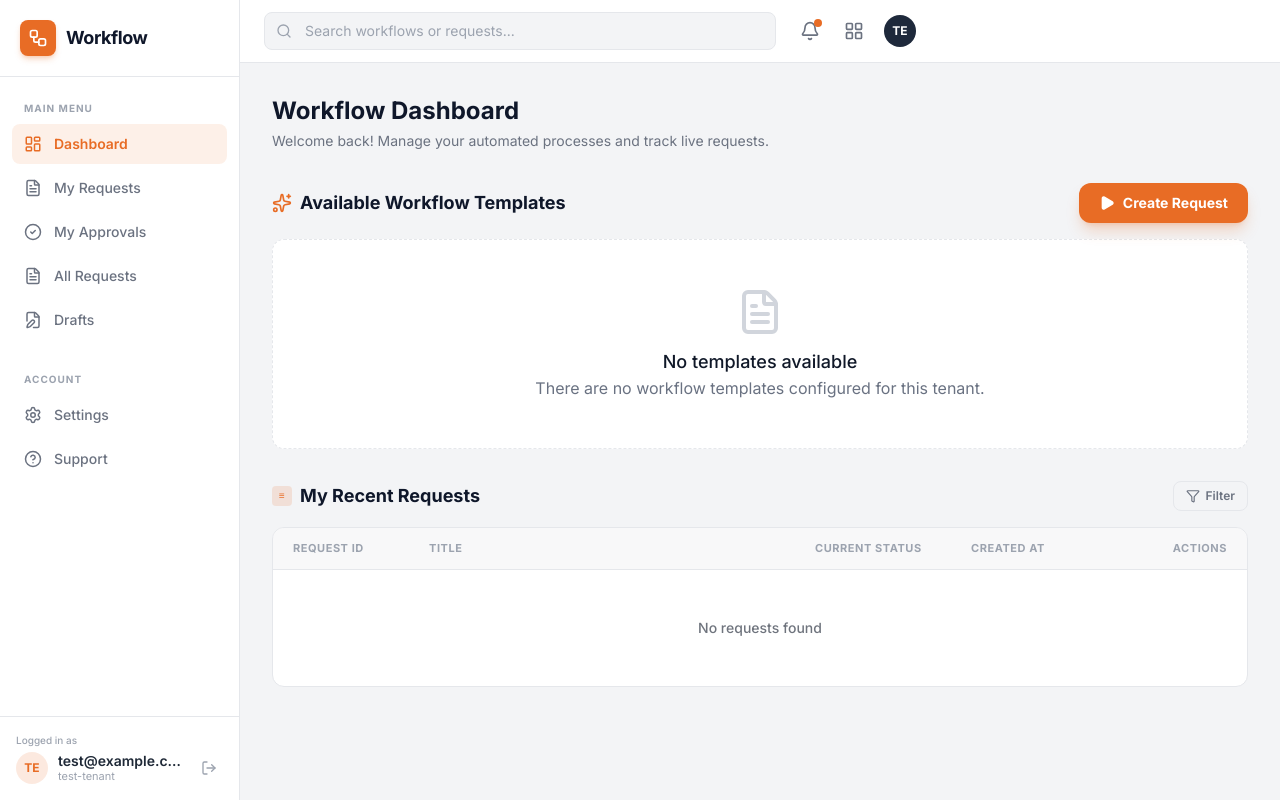
Test: Routing Tests › should navigate to My Requests when clicking the sidebar link
Click the link "My Requests". click: (82,188)
box: [24,179,141,197]
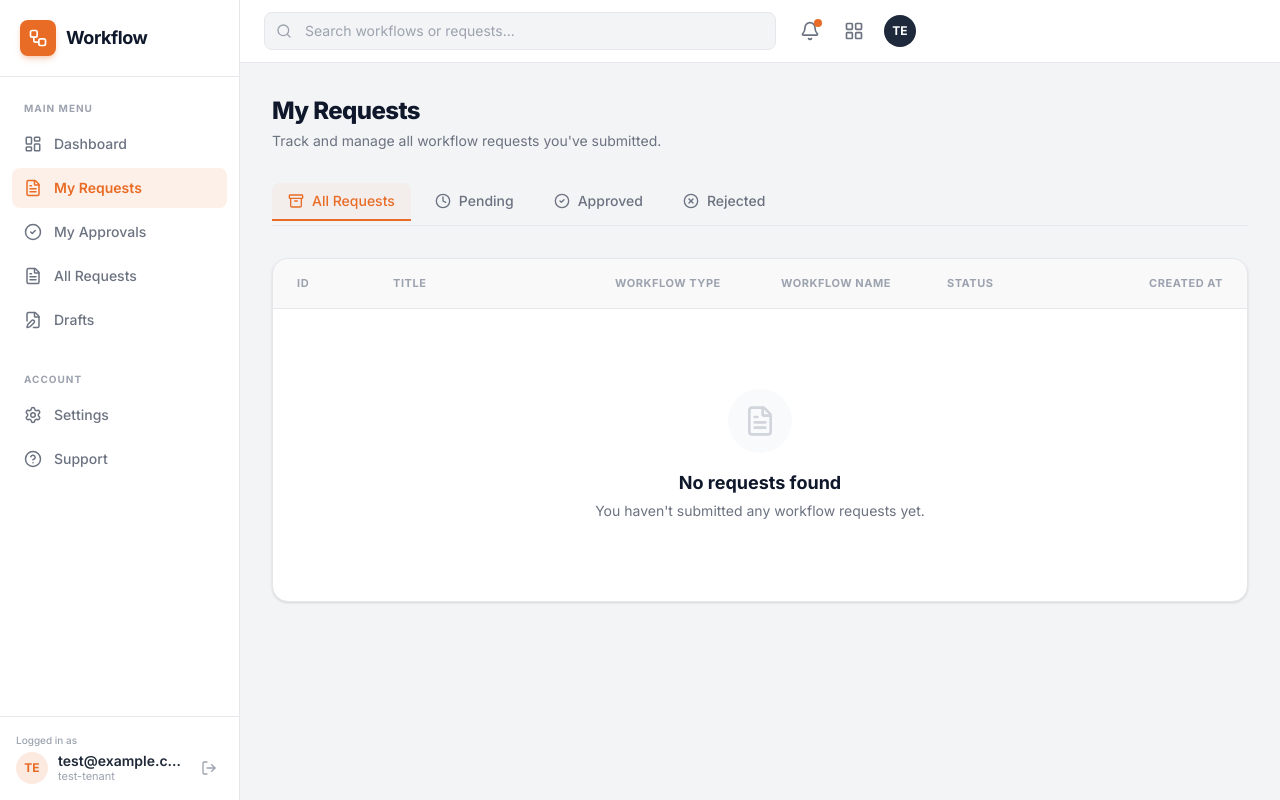
expect the text "Track and manage all workflow requests you've submitted." is shown: met, box [272,131,661,151]
